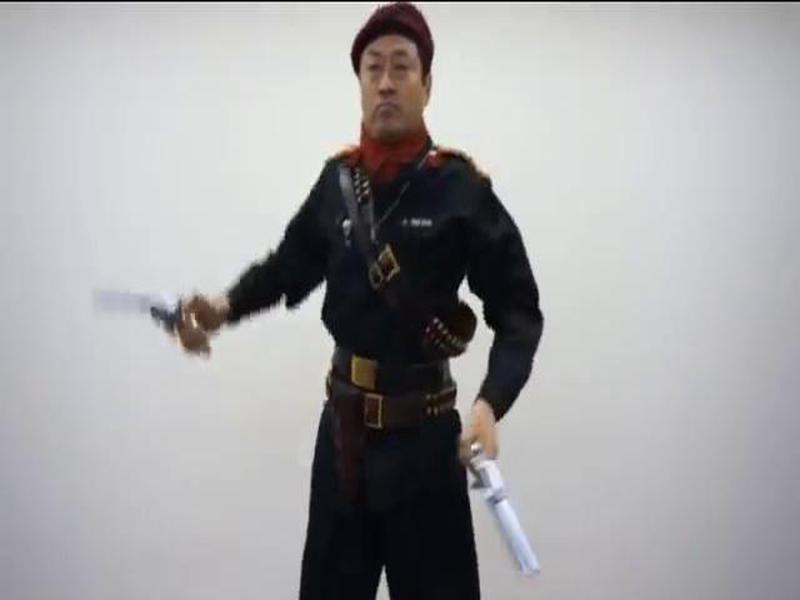Revolver: (443, 425, 552, 586), (79, 270, 230, 370)
